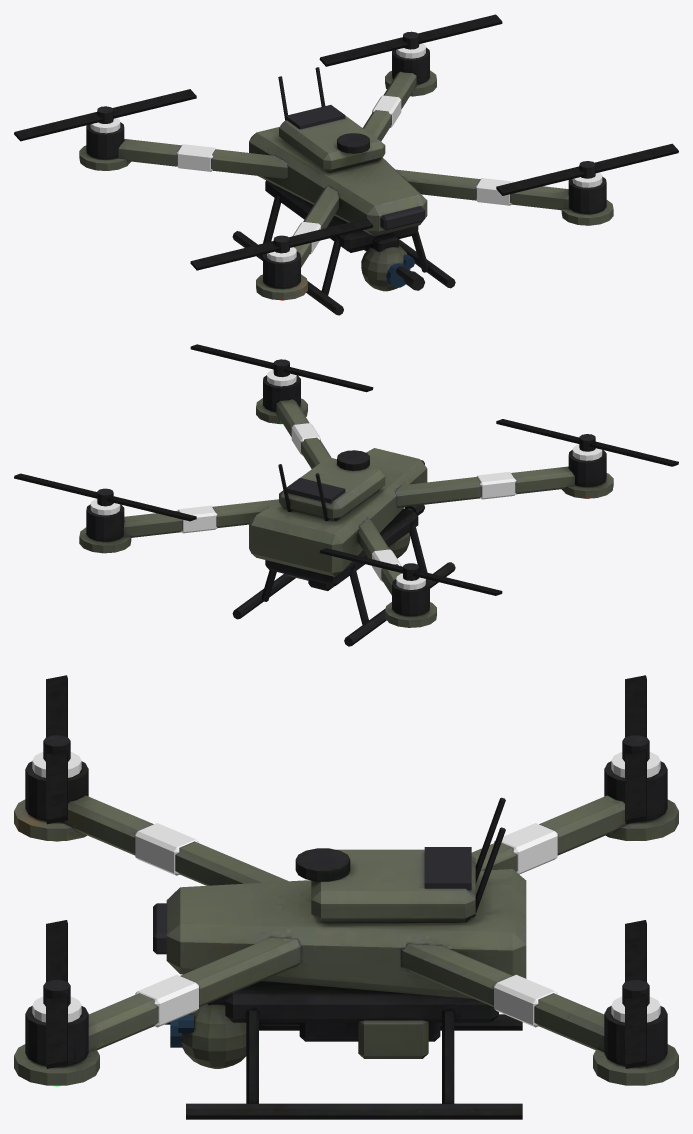
File: drone.glb
The picture shows the model from 3 angles, top to bottom: view 1: azimuth 30°, elevation 25°; view 2: azimuth 150°, elevation 25°; view 3: azimuth 270°, elevation 25°; orthographic projection. The views are drawn at different scales.
Parts seen in each view (by area): view 1: Drone_m, Rotor3_m, Rotor1_m, Rotor0_m, Rotor2_m, ArmBand3, HumpVent, ArmBand1, NoseSensor, ArmBand2; view 2: Drone_m, Rotor0_m, Rotor2_m, Rotor3_m, Rotor1_m, ArmBand0, HumpVent, ArmBand2, ArmBand1; view 3: Drone_m, Rotor3_m, Rotor0_m, Rotor1_m, Rotor2_m, HumpVent, ArmBand1, ArmBand2, ArmBand0, ArmBand3, NoseSensor.
Part boxes in pixels (bbox=[...]): Drone_m: bbox=[79, 47, 613, 315]; Rotor3_m: bbox=[14, 89, 196, 141]; Rotor1_m: bbox=[496, 143, 678, 195]; Rotor0_m: bbox=[190, 218, 373, 270]; Rotor2_m: bbox=[319, 14, 502, 66]; ArmBand3: bbox=[176, 144, 216, 171]; HumpVent: bbox=[285, 105, 345, 129]; ArmBand1: bbox=[475, 178, 514, 205]; NoseSensor: bbox=[380, 206, 424, 230]; ArmBand2: bbox=[372, 95, 401, 127]; Drone_m: bbox=[79, 375, 613, 646]; Rotor0_m: bbox=[496, 419, 678, 466]; Rotor2_m: bbox=[14, 473, 196, 521]; Rotor3_m: bbox=[319, 548, 502, 595]; Rotor1_m: bbox=[190, 344, 373, 392]; ArmBand0: bbox=[476, 472, 516, 499]; HumpVent: bbox=[286, 478, 345, 503]; ArmBand2: bbox=[178, 505, 217, 533]; ArmBand1: bbox=[291, 423, 320, 455]; Drone_m: bbox=[14, 761, 678, 1119]; Rotor3_m: bbox=[622, 675, 649, 824]; Rotor0_m: bbox=[43, 675, 70, 824]; Rotor1_m: bbox=[43, 920, 70, 1068]; Rotor2_m: bbox=[622, 920, 649, 1068]; HumpVent: bbox=[424, 847, 471, 890]; ArmBand1: bbox=[135, 974, 198, 1027]; ArmBand2: bbox=[494, 974, 557, 1027]; ArmBand0: bbox=[135, 823, 198, 875]; ArmBand3: bbox=[494, 823, 557, 874]; NoseSensor: bbox=[153, 903, 166, 954].
Size of the model in its own units: 2.33 by 0.738 by 1.7.
11 materials, 5 textured.
